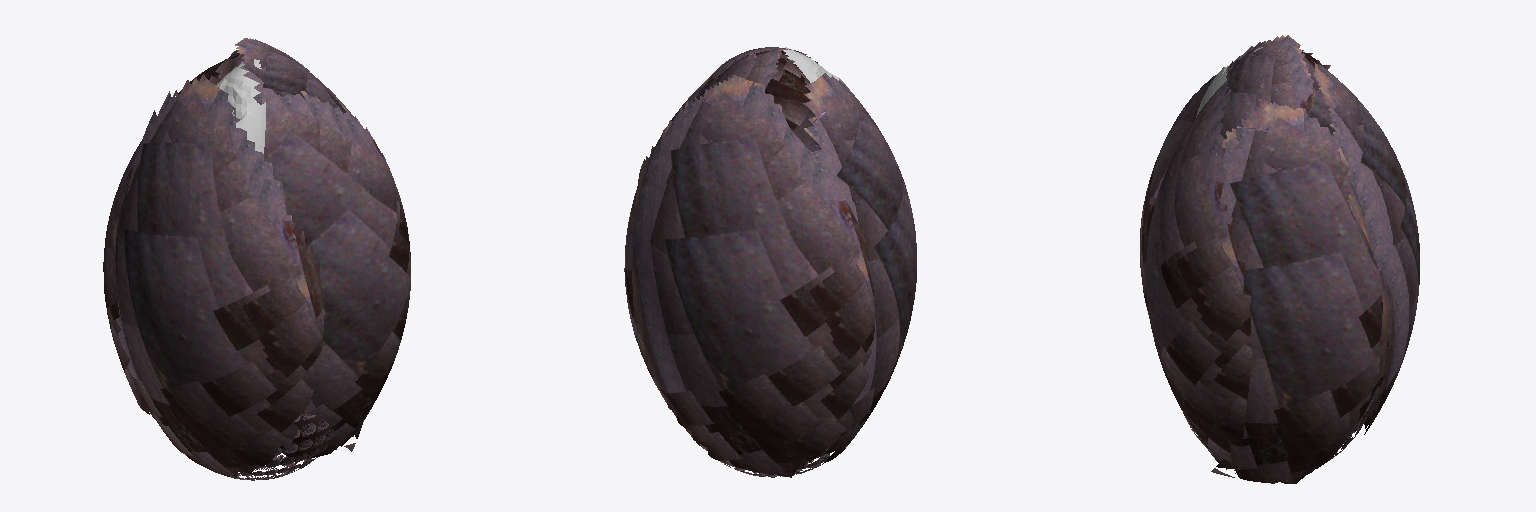
3 renders of one model, left to right at view 1: azimuth 30°, elevation 25°; view 2: azimuth 150°, elevation 25°; view 3: azimuth 270°, elevation 25°, orthographic.
Visible parts, largest first — view 1: Sphere.004_Sphere.011, Sphere.001_Sphere.010, Sphere.006_Sphere.013, Sphere.002_Sphere.007, Sphere.009_Sphere.016, Sphere_Sphere.019; view 2: Sphere.002_Sphere.007, Sphere.004_Sphere.011, Sphere.007_Sphere.014, Sphere.005_Sphere.012, Sphere.010_Sphere.017, Sphere.009_Sphere.016, Sphere.006_Sphere.013; view 3: Sphere.005_Sphere.012, Sphere.001_Sphere.010, Sphere.002_Sphere.007, Sphere.006_Sphere.013, Sphere.004_Sphere.011, Sphere.010_Sphere.017.
Part boxes in pixels (bbox=[...]): Sphere.004_Sphere.011: bbox=[116, 74, 324, 478]; Sphere.001_Sphere.010: bbox=[239, 91, 410, 457]; Sphere.006_Sphere.013: bbox=[235, 38, 336, 108]; Sphere.002_Sphere.007: bbox=[103, 59, 225, 418]; Sphere.009_Sphere.016: bbox=[216, 59, 265, 153]; Sphere_Sphere.019: bbox=[213, 411, 332, 480]; Sphere.002_Sphere.007: bbox=[632, 75, 874, 477]; Sphere.004_Sphere.011: bbox=[803, 73, 916, 463]; Sphere.007_Sphere.014: bbox=[765, 58, 821, 151]; Sphere.005_Sphere.012: bbox=[624, 76, 710, 450]; Sphere.010_Sphere.017: bbox=[698, 50, 781, 101]; Sphere.009_Sphere.016: bbox=[783, 47, 845, 114]; Sphere.006_Sphere.013: bbox=[697, 47, 817, 98]; Sphere.005_Sphere.012: bbox=[1211, 99, 1388, 483]; Sphere.001_Sphere.010: bbox=[1146, 80, 1252, 463]; Sphere.002_Sphere.007: bbox=[1313, 62, 1419, 434]; Sphere.006_Sphere.013: bbox=[1220, 35, 1315, 138]; Sphere.004_Sphere.011: bbox=[1140, 50, 1337, 318]; Sphere.010_Sphere.017: bbox=[1303, 57, 1335, 134].
Bounding box in the file's own units: 0.8328 × 1.34 × 0.8031.
2 materials, 1 textured.